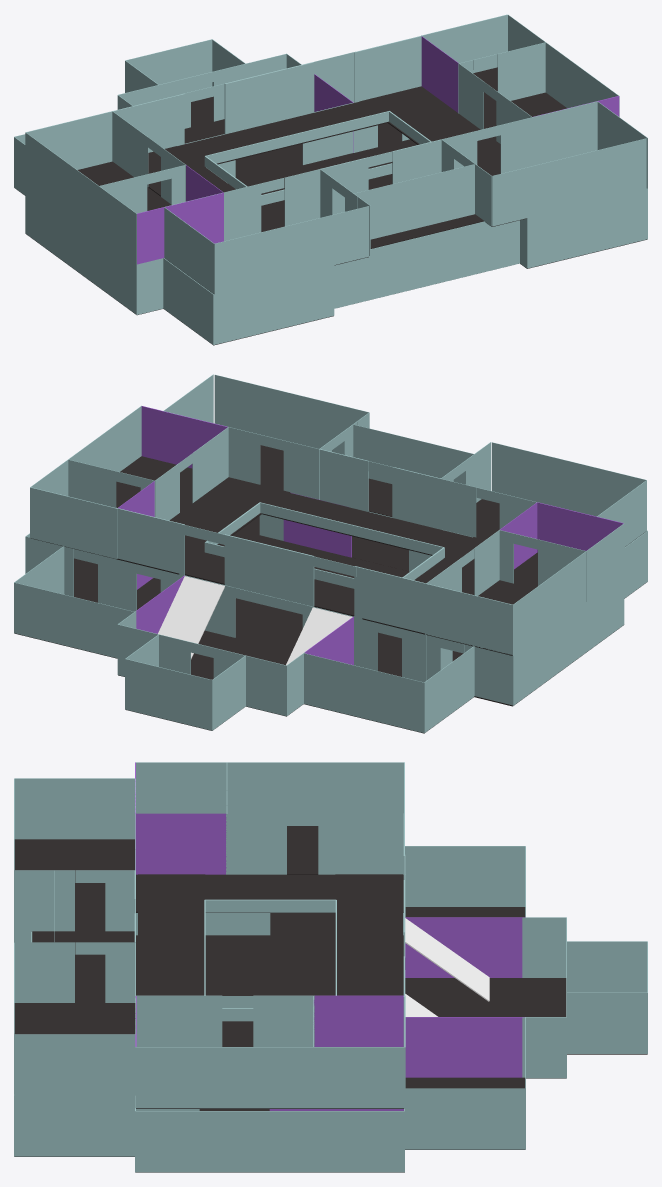
The model's file is Environment.fbx.
The picture shows the model from 3 angles, top to bottom: view 1: azimuth 30°, elevation 25°; view 2: azimuth 150°, elevation 25°; view 3: azimuth 270°, elevation 25°; orthographic projection. The views are drawn at different scales.
Parts seen in each view (by area): view 1: Front_5, Front_7, Front_8, Front_6, Front_4, Front_9, Front_2, Back_1, RBack_13, LFront___1_, Floor__4_, Floor__1_ (+48 smaller); view 2: Front_8, Front_7, Front_3, Front_9, Front_2, Floor_2, Front, Left_10, Back, Right__1_, Floor__3_, Back_1 (+62 smaller); view 3: Front_1, Front_10, Front_9, Floor__2_, Floor_2, Right_7, Left_1, Right_4, Right_6, Left_3, Floor__3_, Right_1 (+30 smaller).
Boxes of the visible parts, x1,y1,x2,y2 form: Front_5: [334, 220, 519, 308]; Front_7: [214, 206, 369, 294]; Front_8: [492, 138, 646, 226]; Front_6: [213, 265, 334, 344]; Front_4: [527, 188, 647, 268]; Front_9: [25, 132, 136, 264]; Front_2: [25, 183, 136, 314]; Back_1: [353, 164, 474, 239]; RBack_13: [500, 101, 597, 173]; LFront___1_: [224, 62, 314, 134]; Floor__4_: [149, 99, 445, 173]; Floor__1_: [360, 86, 500, 175]; Front_8: [214, 374, 368, 454]; Front_7: [492, 442, 646, 516]; Front_3: [304, 653, 424, 732]; Front_9: [512, 523, 624, 655]; Front_2: [512, 574, 624, 705]; Floor_2: [137, 530, 463, 676]; Front: [14, 582, 134, 658]; Left_10: [30, 487, 117, 558]; Back: [125, 659, 212, 730]; Right__1_: [426, 583, 512, 654]; Floor__3_: [227, 483, 483, 564]; Back_1: [353, 424, 474, 486]; Front_1: [135, 1111, 404, 1172]; Front_10: [135, 1047, 404, 1108]; Front_9: [135, 762, 404, 813]; Floor__2_: [136, 874, 403, 912]; Floor_2: [136, 935, 403, 1110]; Right_7: [14, 1034, 135, 1095]; Left_1: [404, 1088, 525, 1149]; Right_4: [14, 1095, 134, 1156]; Right_6: [14, 778, 135, 839]; Left_3: [405, 846, 525, 906]; Floor__3_: [138, 874, 205, 995]; Right_1: [405, 1017, 524, 1077].
Bounding box in the file's own units: 5057 × 1005 × 4704.
